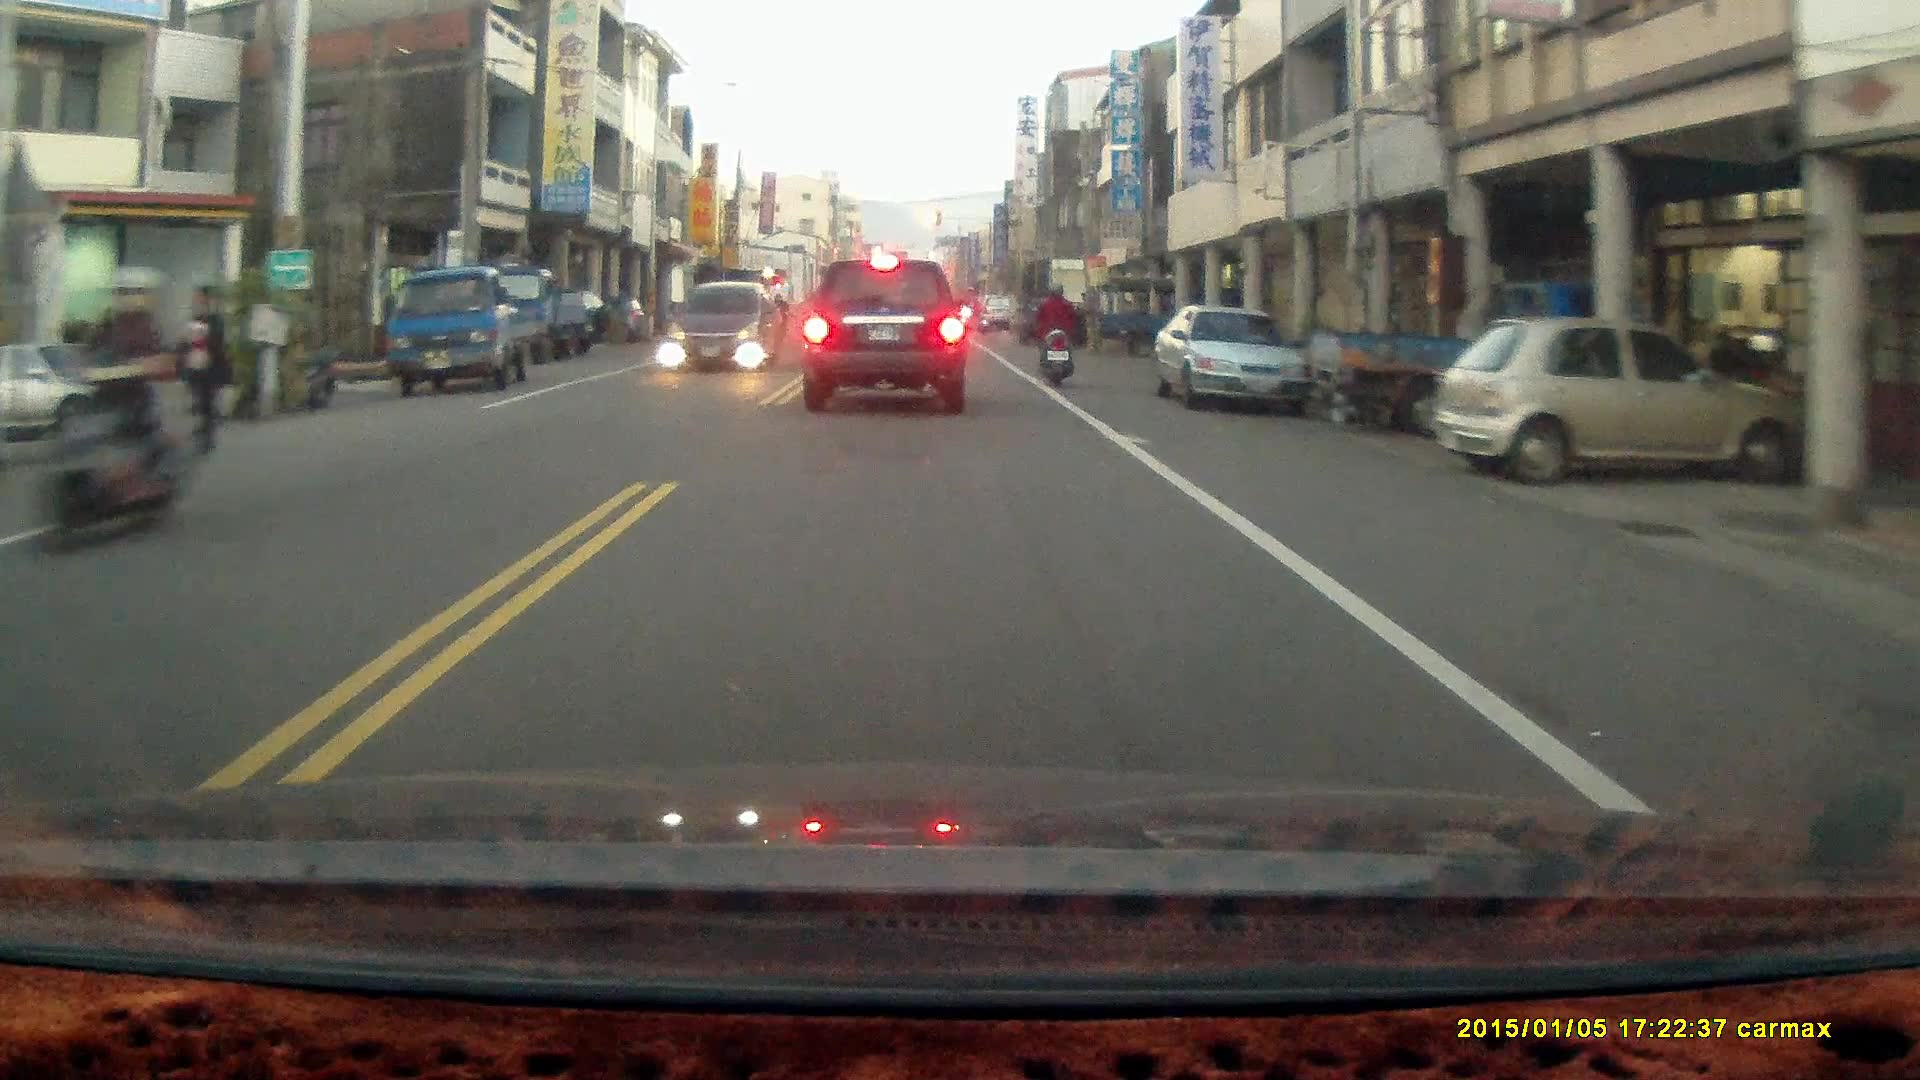pedestrian: (168, 282, 232, 465)
rider: (21, 259, 220, 559), (1033, 280, 1076, 386)
vehicle: (1446, 314, 1786, 491), (796, 253, 971, 416), (387, 265, 553, 395), (1, 339, 185, 438), (1153, 305, 1319, 411), (667, 279, 780, 371)
